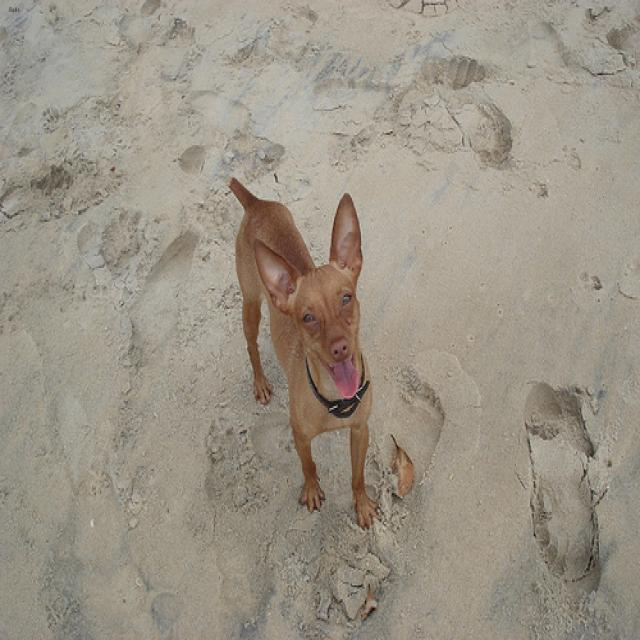dog-miniature_pinscher: (224, 172, 381, 534)
